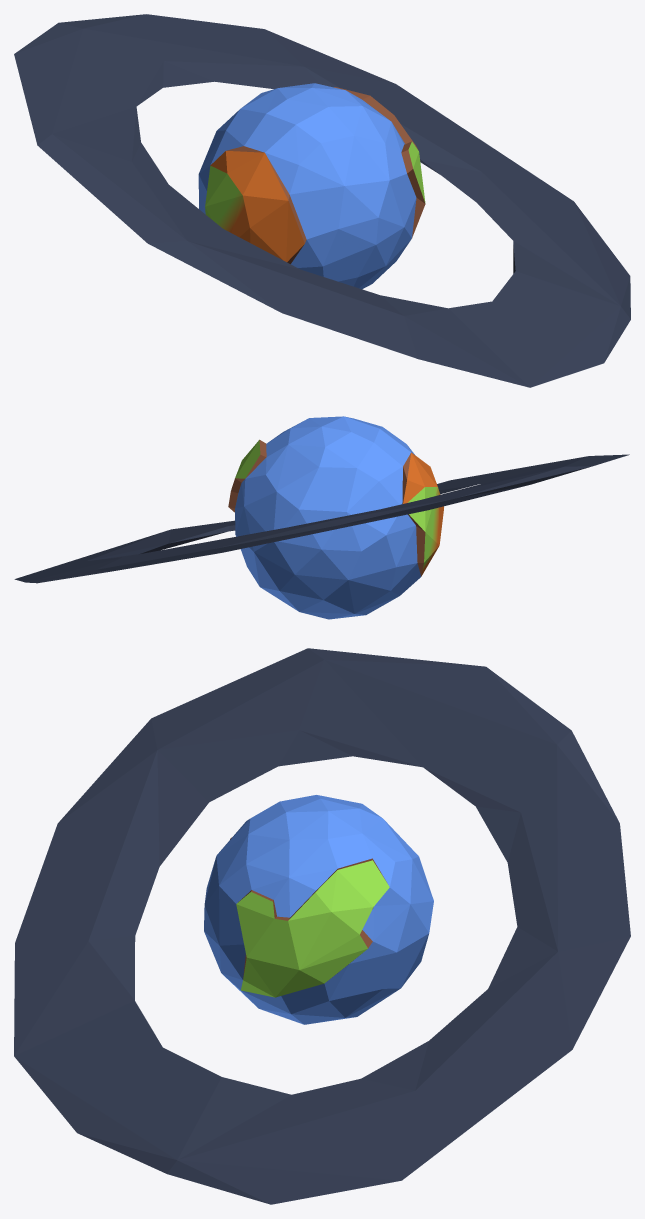
The model's file is Planet10.fbx.
3 renders of one model, top to bottom at view 1: azimuth 30°, elevation 25°; view 2: azimuth 150°, elevation 25°; view 3: azimuth 270°, elevation 25°, orthographic. The views are drawn at different scales.
Parts seen in each view (by area): view 1: Planet10; view 2: Planet10; view 3: Planet10.
Part boxes in pixels (x1=…): Planet10: x1=14, y1=14, x2=630, y2=387; Planet10: x1=14, y1=416, x2=629, y2=619; Planet10: x1=14, y1=648, x2=630, y2=1204.
Size of the model in its own units: 34.28 by 15.23 by 30.45.
